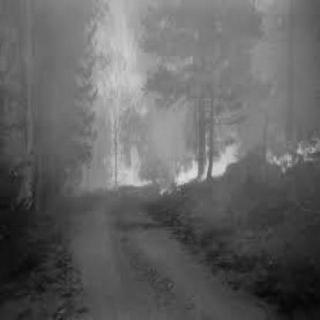Fire: (256, 127, 316, 183), (170, 148, 232, 184)
